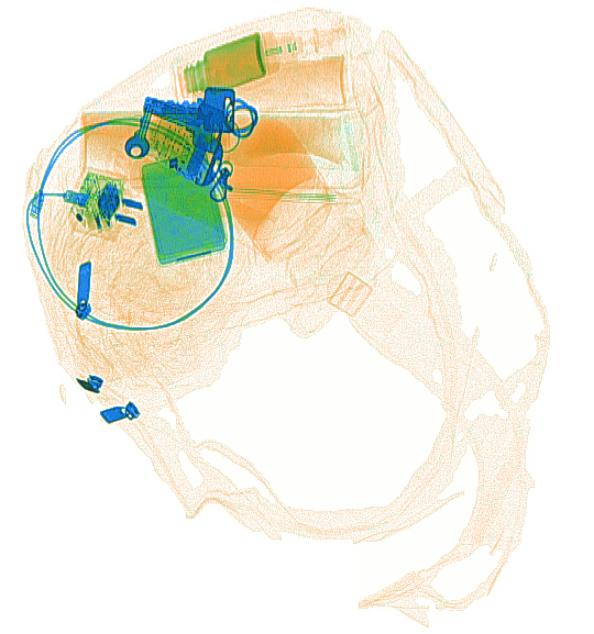plasticBottleWithaNozzle: (198, 19, 352, 93)
